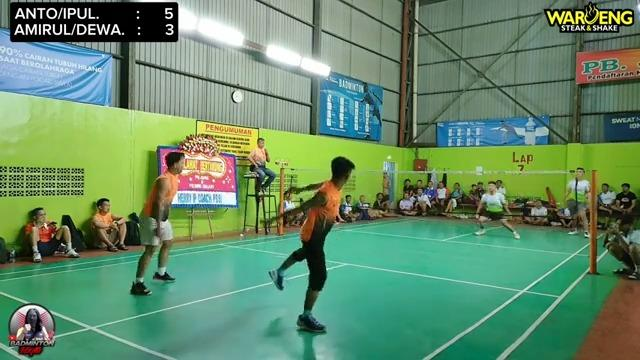Shuttlecock: (386, 152, 396, 160)
